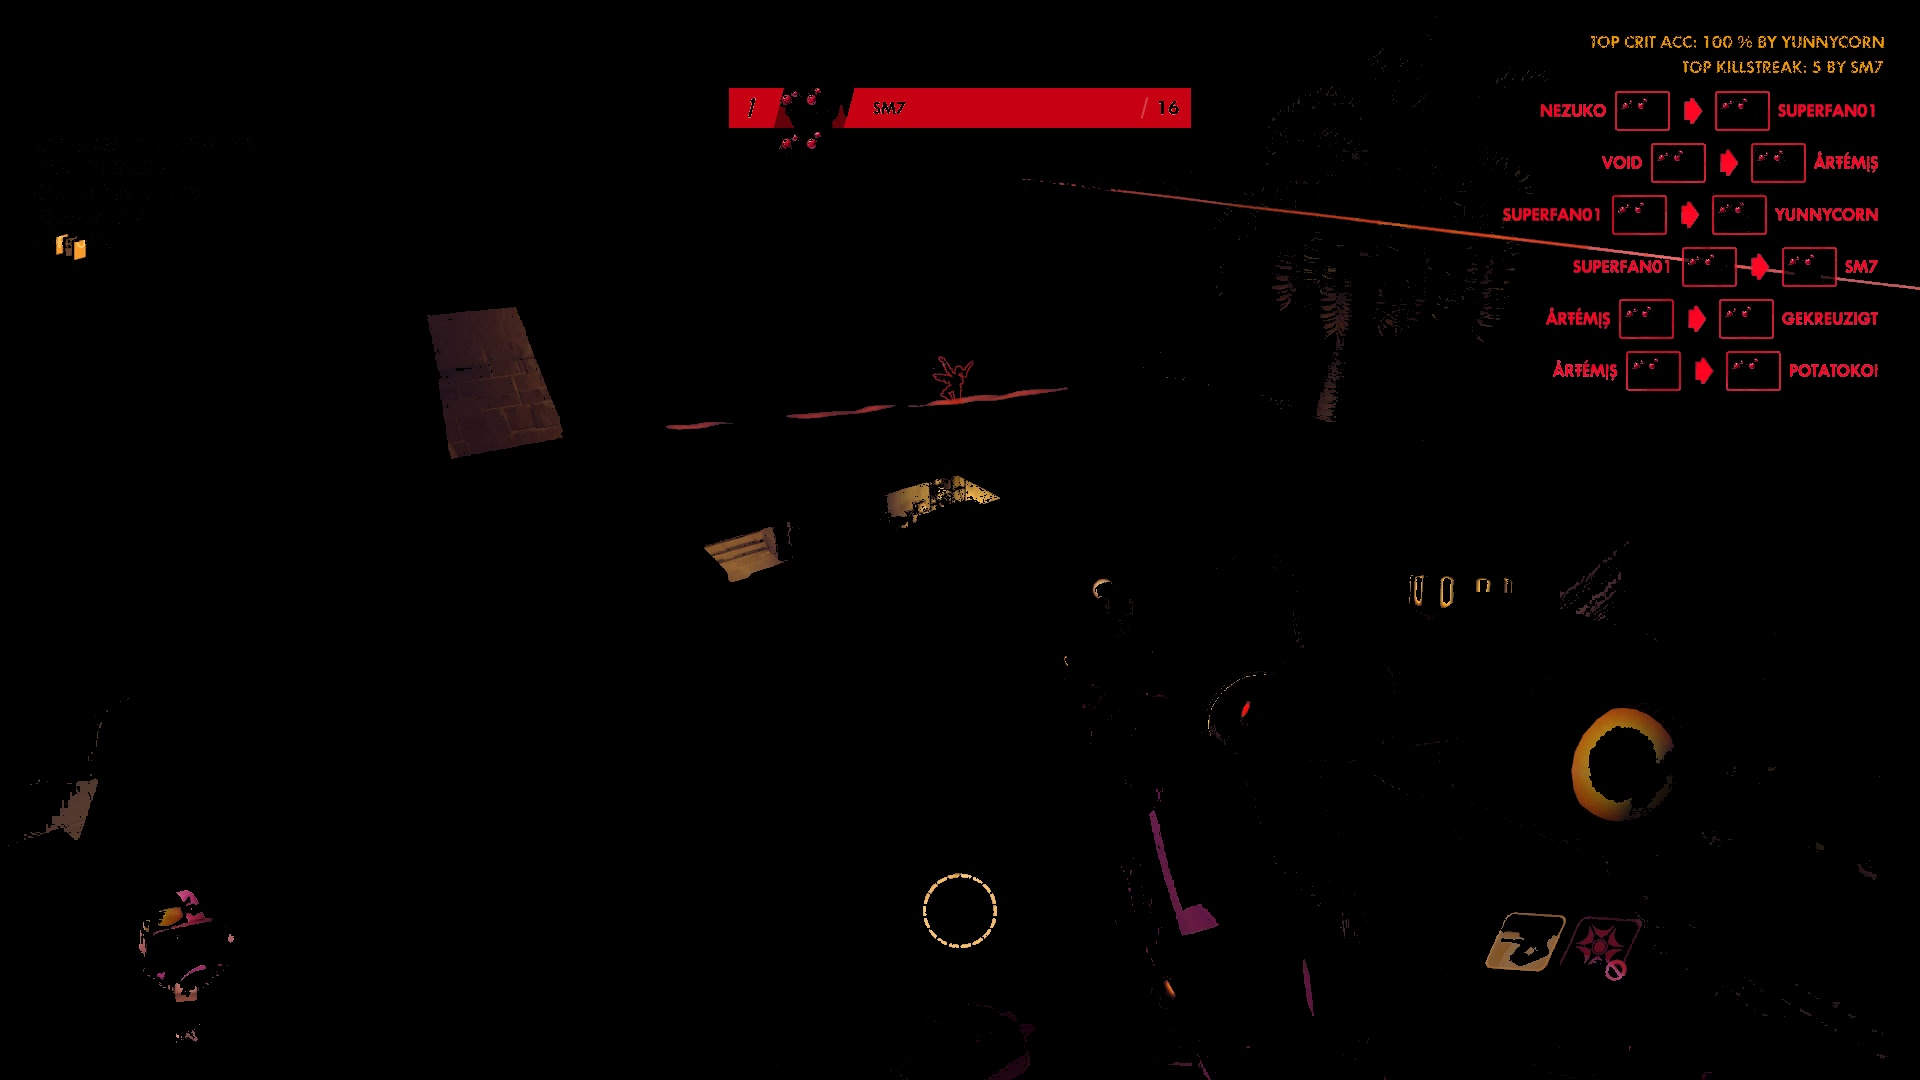widowmaker: (931, 356, 969, 407)
